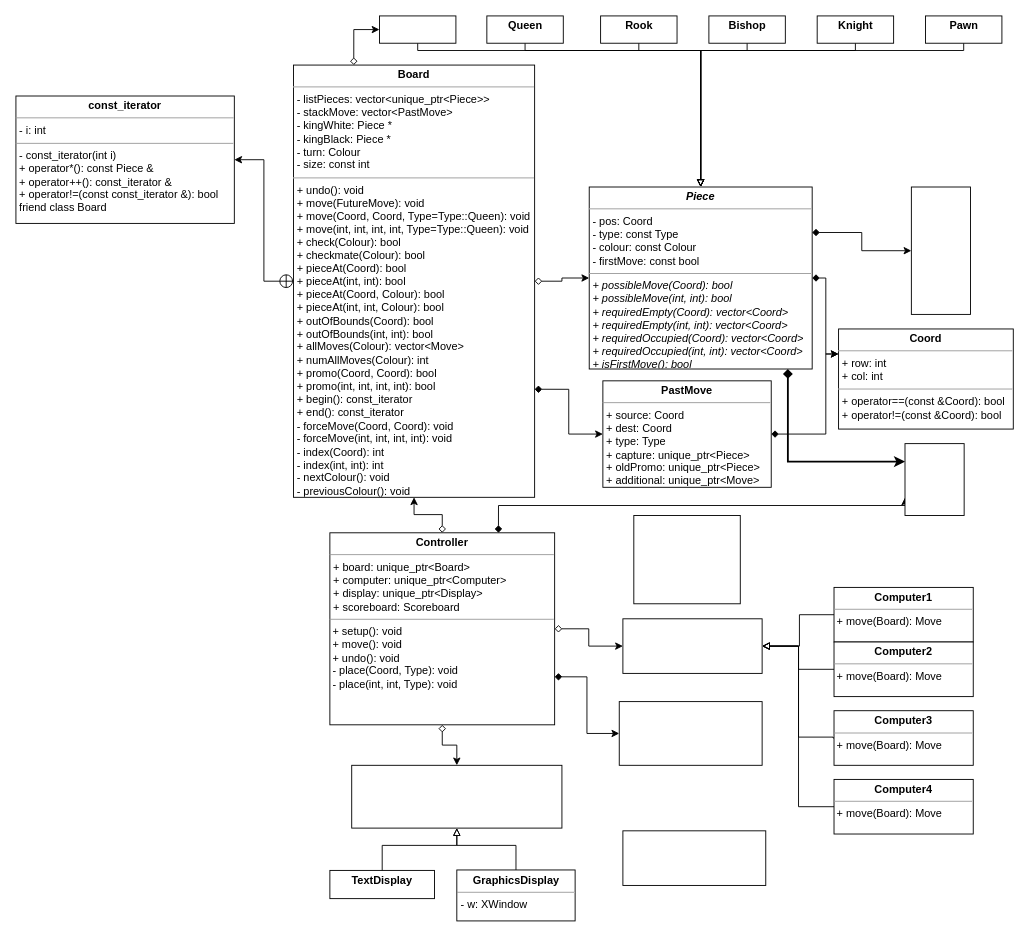
Image size: 1029x937. Some labels were removed from this diagram. Here are the shapes that lost their labels. From the top down, the centre of each, then its label:
At point (417, 29): "King".
At point (940, 250): "<<enum>> Type King Queen Rook Bishop Knight Pawn".
At point (934, 479): "<<enum>> Colour White Black".
At point (686, 559): "FutureMove + source: Coord + dest: Coord + isPromo: bool + type: Type".
At point (692, 645): "Computer + move(Board): Move".
At point (690, 733): "Scoreboard - whiteScore: int - blackScore: int".
At point (456, 796): "Display + display(const Board&): void + displayScore(const Scoreboard&): void".
At point (694, 857): "InvalidMove - message: String".
